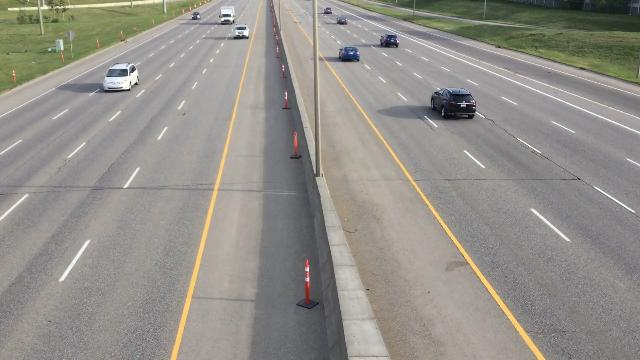car: (430, 86, 477, 121), (340, 43, 361, 62), (381, 32, 400, 48), (233, 24, 251, 40), (336, 15, 349, 26), (191, 11, 202, 21), (324, 7, 332, 14)
truck: (219, 6, 237, 24)
van: (104, 62, 140, 93)
